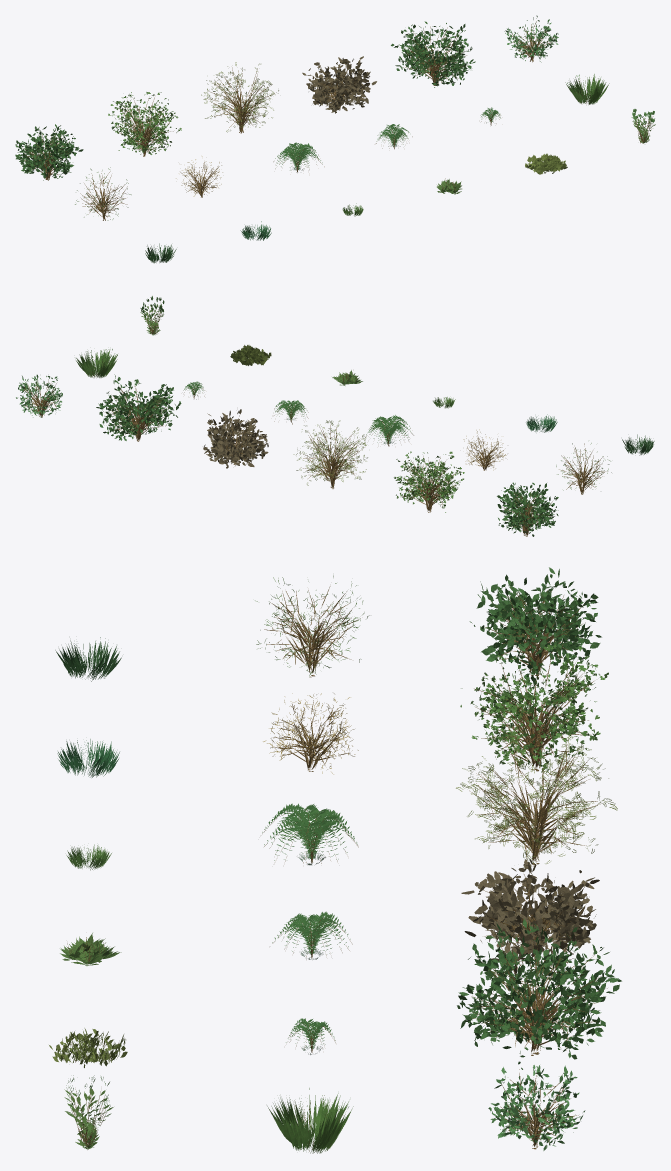
File: PROJECT_Z_Shrub_Undergrowth_Kit_CATALOG_2K.glb
3 views of the same model, one above another, from view 1: azimuth 30°, elevation 25°; view 2: azimuth 150°, elevation 25°; view 3: azimuth 270°, elevation 25° (orthographic). The views are drawn at different scales.
Visible parts, largest first — view 1: SHRUB_05_Woodland_Mixed__FoliageCards, SHRUB_04_Rustleaf_Wild__FoliageCards, SHRUB_01_Hawthorn_Compact__FoliageCards, SHRUB_02_Privet_Dense__FoliageCards, SHRUB_03_Willow_Scrub__FoliageCards, SHRUB_03_Willow_Scrub__WoodyStems, BUSH_01_Broadleaf_Round__FoliageCards, SHRUB_02_Privet_Dense__WoodyStems, GRASS_01_Roadside_Tall__FoliageCards, BUSH_02_Serrated_Sapling__WoodyStems, SHRUB_05_Woodland_Mixed__WoodyStems, FERN_01_Bracken_Spread__FoliageCards (+7 smaller); view 2: SHRUB_05_Woodland_Mixed__FoliageCards, SHRUB_04_Rustleaf_Wild__FoliageCards, SHRUB_01_Hawthorn_Compact__FoliageCards, SHRUB_02_Privet_Dense__FoliageCards, SHRUB_03_Willow_Scrub__FoliageCards, SHRUB_03_Willow_Scrub__WoodyStems, BUSH_01_Broadleaf_Round__FoliageCards, SHRUB_02_Privet_Dense__WoodyStems, GRASS_01_Roadside_Tall__FoliageCards, BUSH_02_Serrated_Sapling__WoodyStems, SHRUB_05_Woodland_Mixed__WoodyStems, FERN_01_Bracken_Spread__FoliageCards (+7 smaller); view 3: SHRUB_05_Woodland_Mixed__FoliageCards, SHRUB_04_Rustleaf_Wild__FoliageCards, SHRUB_01_Hawthorn_Compact__FoliageCards, SHRUB_02_Privet_Dense__FoliageCards, SHRUB_03_Willow_Scrub__FoliageCards, SHRUB_03_Willow_Scrub__WoodyStems, BUSH_01_Broadleaf_Round__FoliageCards, GRASS_01_Roadside_Tall__FoliageCards, SHRUB_02_Privet_Dense__WoodyStems, SHRUB_05_Woodland_Mixed__WoodyStems, FERN_01_Bracken_Spread__FoliageCards, BUSH_02_Serrated_Sapling__WoodyStems (+11 smaller).
Boxes of the visible parts, bbox=[...] form: SHRUB_05_Woodland_Mixed__FoliageCards: bbox=[391, 21, 475, 87]; SHRUB_04_Rustleaf_Wild__FoliageCards: bbox=[302, 56, 376, 113]; SHRUB_01_Hawthorn_Compact__FoliageCards: bbox=[15, 124, 83, 180]; SHRUB_02_Privet_Dense__FoliageCards: bbox=[108, 92, 181, 154]; SHRUB_03_Willow_Scrub__FoliageCards: bbox=[201, 62, 278, 132]; SHRUB_03_Willow_Scrub__WoodyStems: bbox=[207, 67, 276, 133]; BUSH_01_Broadleaf_Round__FoliageCards: bbox=[504, 15, 558, 62]; SHRUB_02_Privet_Dense__WoodyStems: bbox=[118, 97, 173, 156]; GRASS_01_Roadside_Tall__FoliageCards: bbox=[565, 74, 609, 104]; BUSH_02_Serrated_Sapling__WoodyStems: bbox=[80, 171, 127, 220]; SHRUB_05_Woodland_Mixed__WoodyStems: bbox=[403, 26, 466, 85]; FERN_01_Bracken_Spread__FoliageCards: bbox=[275, 142, 322, 172]; SHRUB_05_Woodland_Mixed__FoliageCards: bbox=[96, 374, 181, 440]; SHRUB_04_Rustleaf_Wild__FoliageCards: bbox=[203, 409, 268, 468]; SHRUB_01_Hawthorn_Compact__FoliageCards: bbox=[497, 482, 558, 536]; SHRUB_02_Privet_Dense__FoliageCards: bbox=[394, 451, 464, 512]; SHRUB_03_Willow_Scrub__FoliageCards: bbox=[293, 420, 367, 485]; SHRUB_03_Willow_Scrub__WoodyStems: bbox=[301, 425, 362, 488]; BUSH_01_Broadleaf_Round__FoliageCards: bbox=[16, 374, 62, 417]; SHRUB_02_Privet_Dense__WoodyStems: bbox=[401, 456, 458, 512]; GRASS_01_Roadside_Tall__FoliageCards: bbox=[76, 349, 117, 377]; BUSH_02_Serrated_Sapling__WoodyStems: bbox=[559, 443, 607, 494]; SHRUB_05_Woodland_Mixed__WoodyStems: bbox=[105, 386, 170, 441]; FERN_01_Bracken_Spread__FoliageCards: bbox=[366, 415, 410, 444]; SHRUB_05_Woodland_Mixed__FoliageCards: bbox=[457, 919, 621, 1059]; SHRUB_04_Rustleaf_Wild__FoliageCards: bbox=[461, 858, 599, 975]; SHRUB_01_Hawthorn_Compact__FoliageCards: bbox=[469, 567, 601, 685]; SHRUB_02_Privet_Dense__FoliageCards: bbox=[460, 644, 608, 772]; SHRUB_03_Willow_Scrub__FoliageCards: bbox=[456, 724, 617, 867]; SHRUB_03_Willow_Scrub__WoodyStems: bbox=[469, 743, 601, 866]; BUSH_01_Broadleaf_Round__FoliageCards: bbox=[488, 1061, 585, 1150]; GRASS_01_Roadside_Tall__FoliageCards: bbox=[267, 1088, 353, 1153]; SHRUB_02_Privet_Dense__WoodyStems: bbox=[474, 653, 593, 771]; SHRUB_05_Woodland_Mixed__WoodyStems: bbox=[468, 940, 607, 1055]; FERN_01_Bracken_Spread__FoliageCards: bbox=[262, 803, 357, 865]; BUSH_02_Serrated_Sapling__WoodyStems: bbox=[264, 586, 360, 677].
Size of the model in its own units: 16.71 by 1.82 by 7.72.
Materials: 1 (1 with a texture image).
